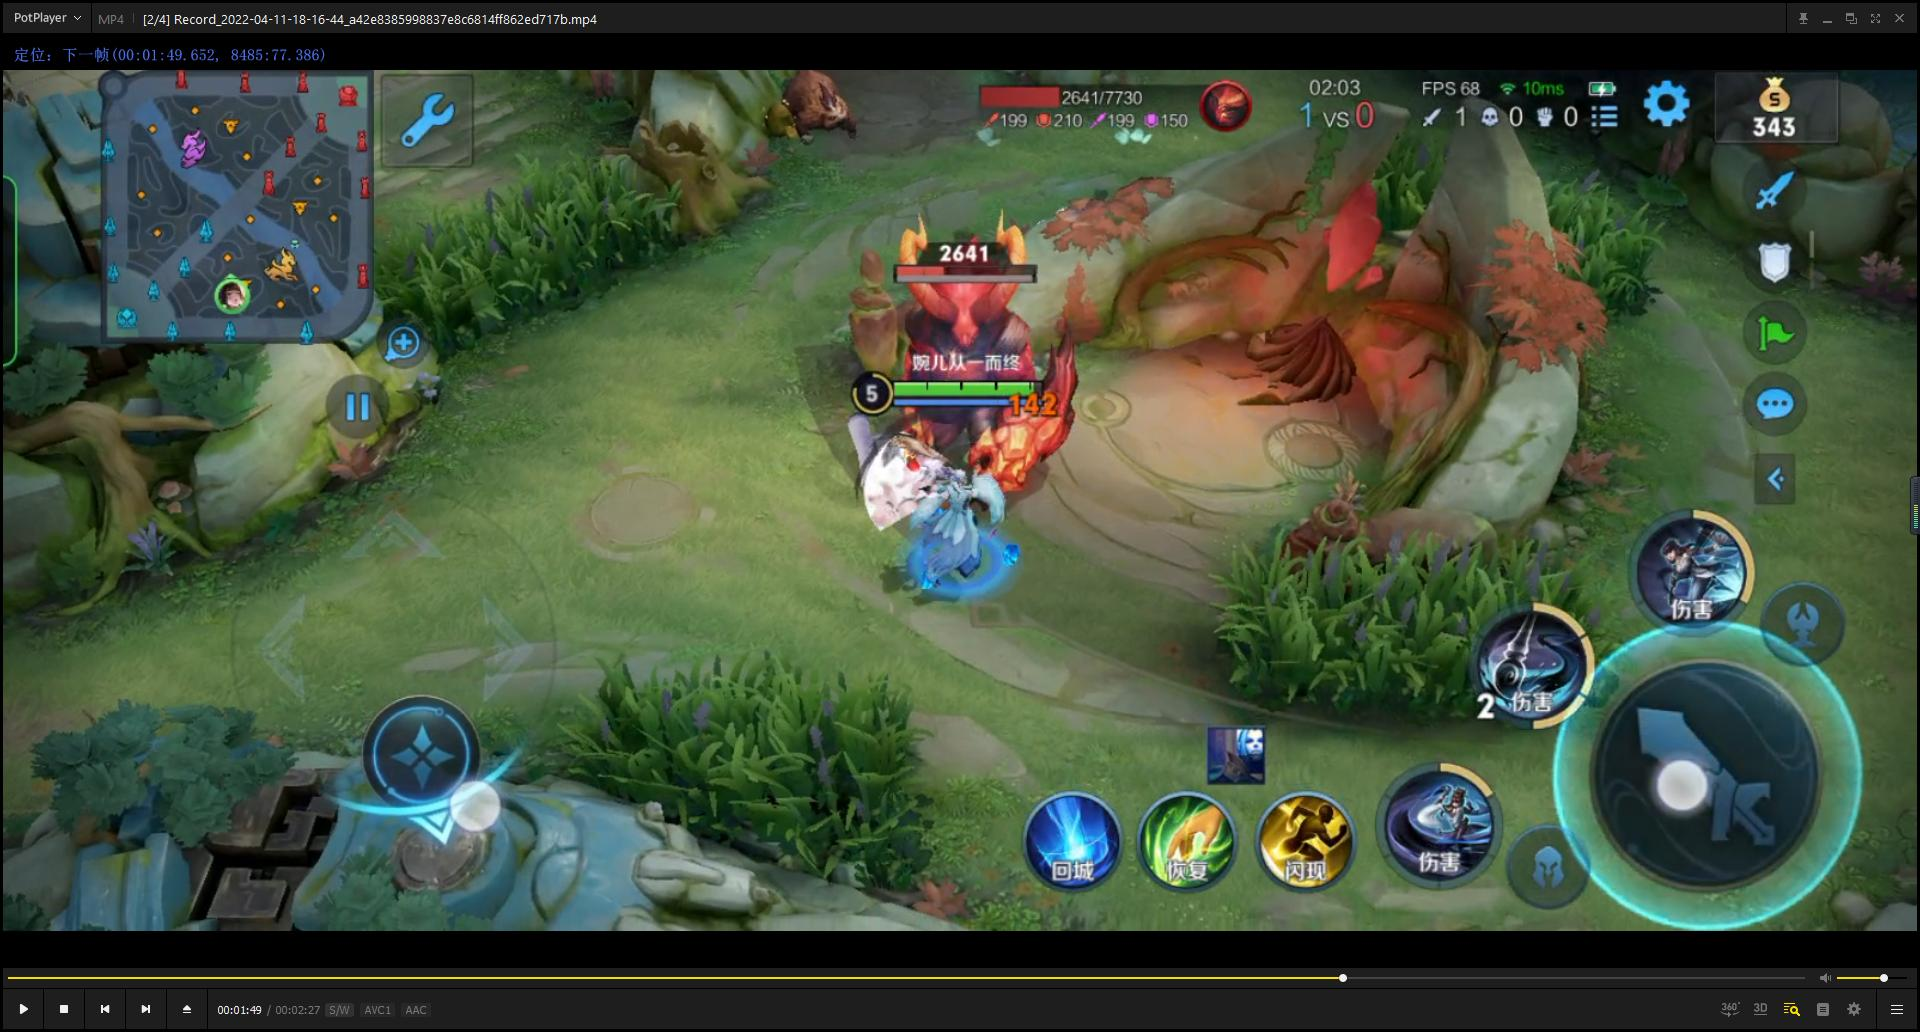Buff: (823, 203, 1139, 517)
Hero: (850, 445, 1058, 621)
Pig: (745, 66, 877, 161)
